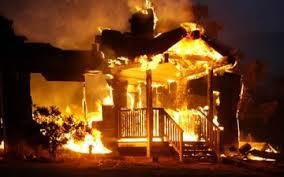fire: (84, 11, 240, 155), (56, 97, 110, 154)
